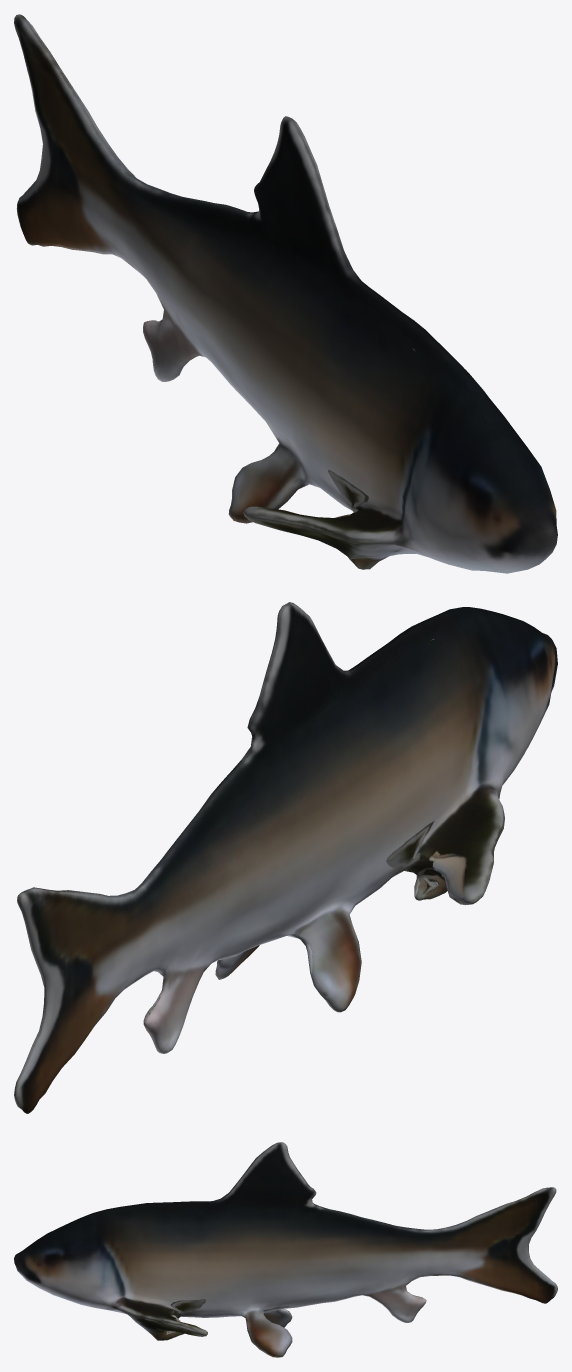
The model's file is fish_16.glb.
The picture shows the model from 3 angles, top to bottom: view 1: azimuth 30°, elevation 25°; view 2: azimuth 150°, elevation 25°; view 3: azimuth 270°, elevation 25°; orthographic projection. The views are drawn at different scales.
Visible parts, largest first — view 1: mesh; view 2: mesh; view 3: mesh.
Part boxes in pixels (x1,y1,x2,y2): mesh: [14, 14, 557, 573]; mesh: [14, 602, 557, 1113]; mesh: [14, 1142, 557, 1357].
Bounding box in the file's own units: 0.2608 × 0.4051 × 0.9967.
1 material, 1 textured.
